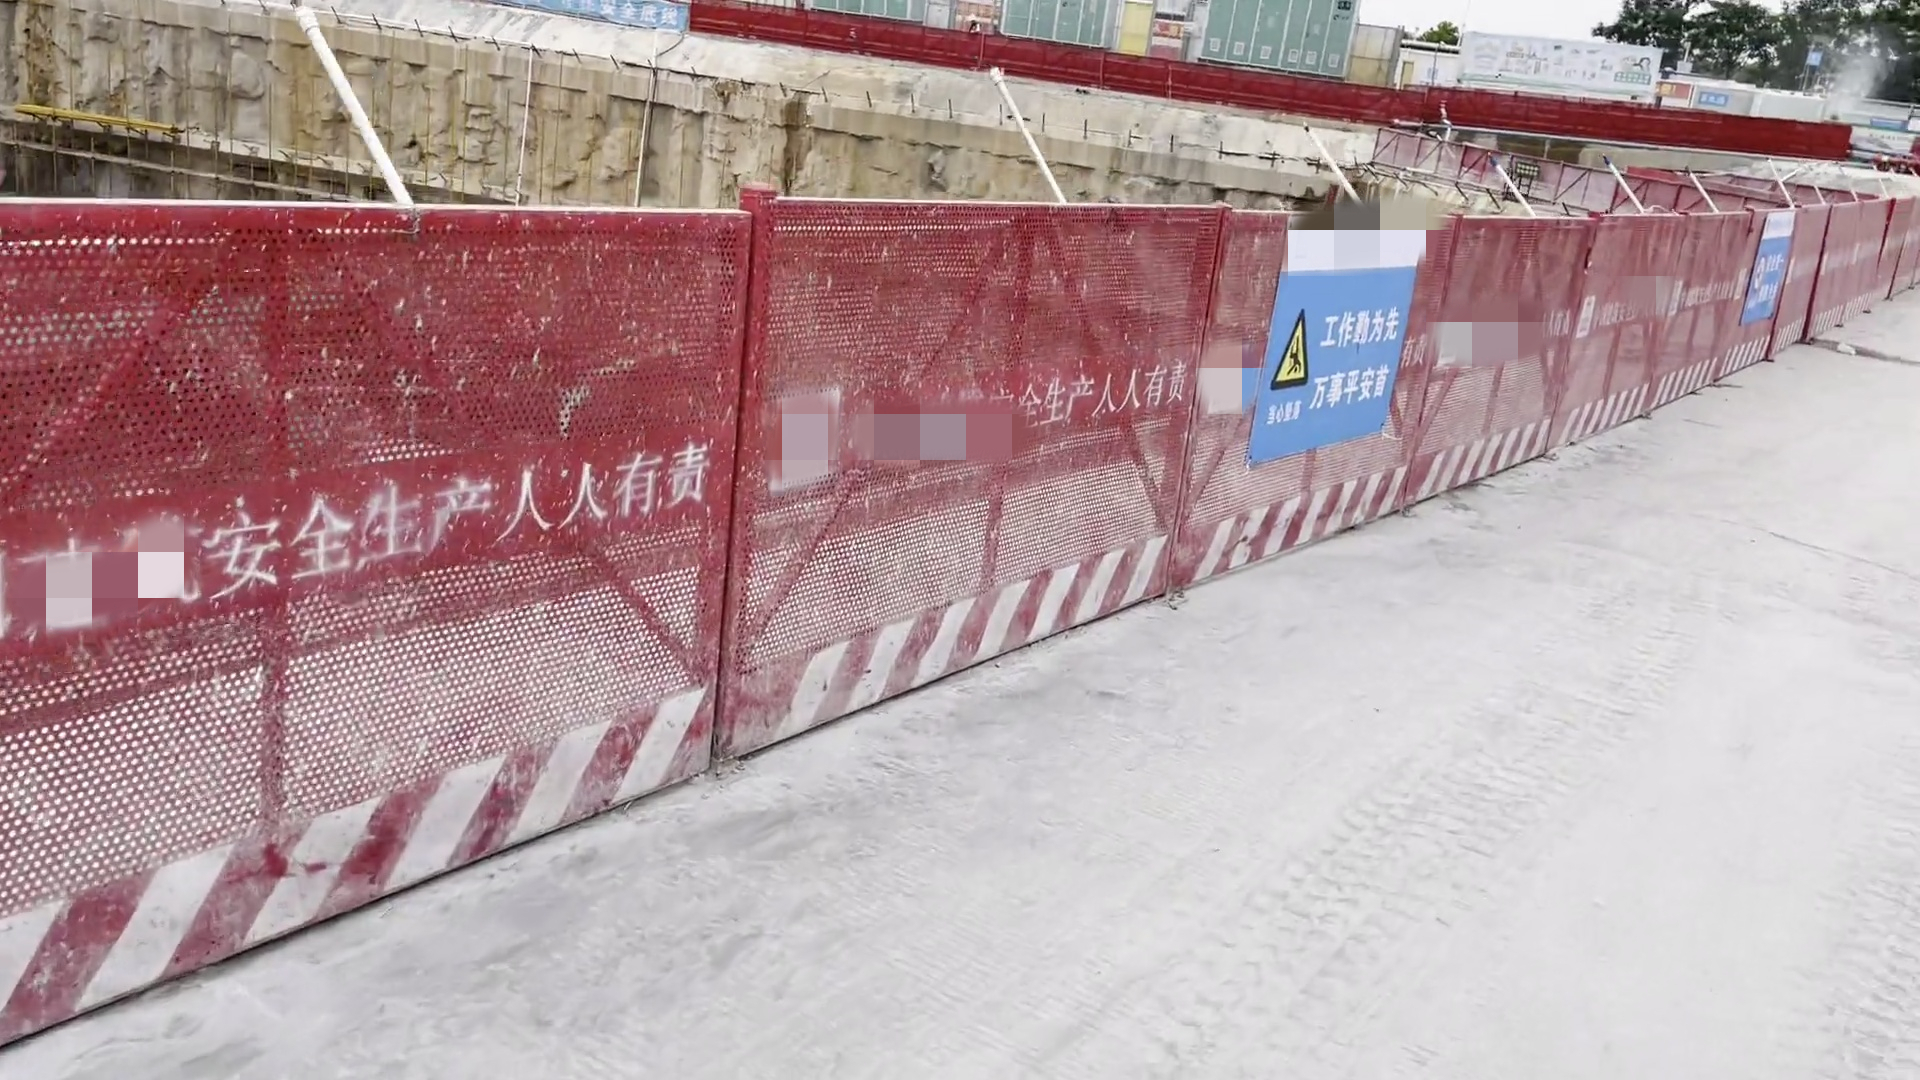fence: (4, 194, 1920, 1048), (471, 1, 1903, 178)
slogan: (207, 438, 723, 582), (992, 360, 1188, 434), (502, 1, 688, 36)
